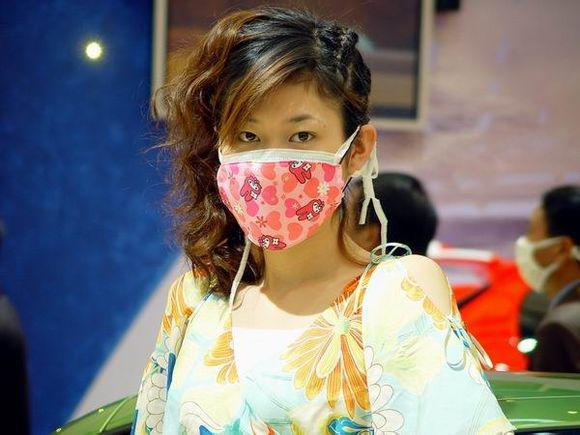OK: (223, 124, 350, 245), (516, 220, 576, 296)
